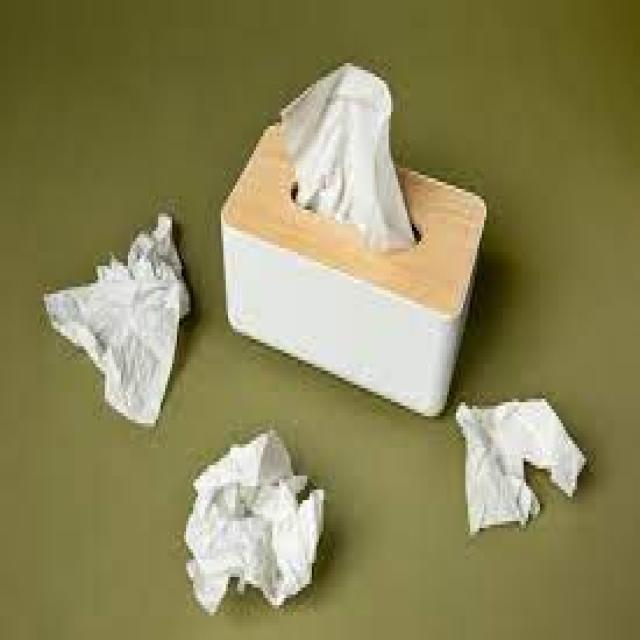tissue: (44, 212, 190, 424), (186, 430, 324, 611), (283, 64, 415, 251), (456, 398, 585, 533)
